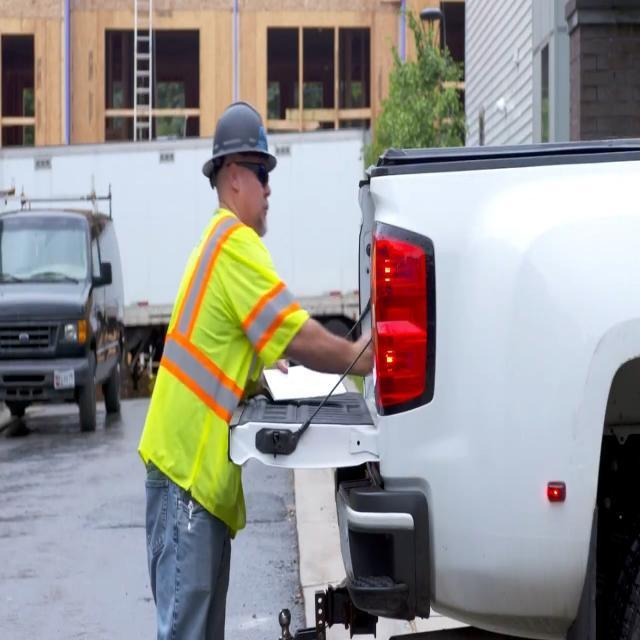blue helmet: (199, 101, 283, 179)
